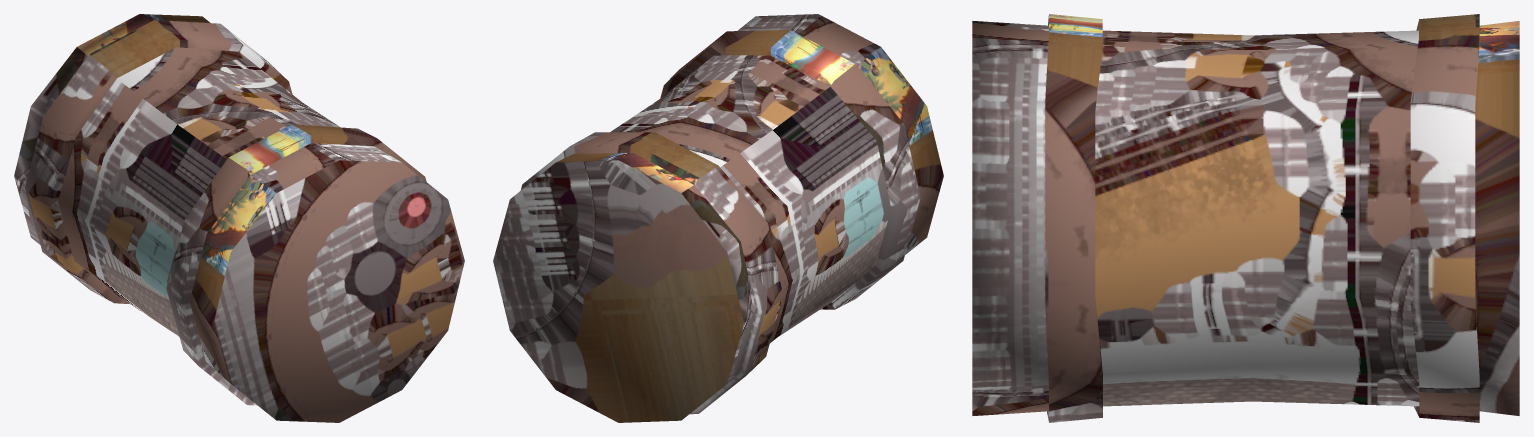
The model's file is RoundWheat.fbx.
3 renders of one model, left to right at view 1: azimuth 30°, elevation 25°; view 2: azimuth 150°, elevation 25°; view 3: azimuth 270°, elevation 25°, orthographic. The views are drawn at different scales.
Parts seen in each view (by area): view 1: SM_WheatRound_low; view 2: SM_WheatRound_low; view 3: SM_WheatRound_low.
Boxes of the visible parts, bbox=[...] form: SM_WheatRound_low: bbox=[14, 14, 464, 422]; SM_WheatRound_low: bbox=[493, 14, 943, 422]; SM_WheatRound_low: bbox=[972, 14, 1519, 422].
Bounding box in the file's own units: 135 × 135 × 180.
